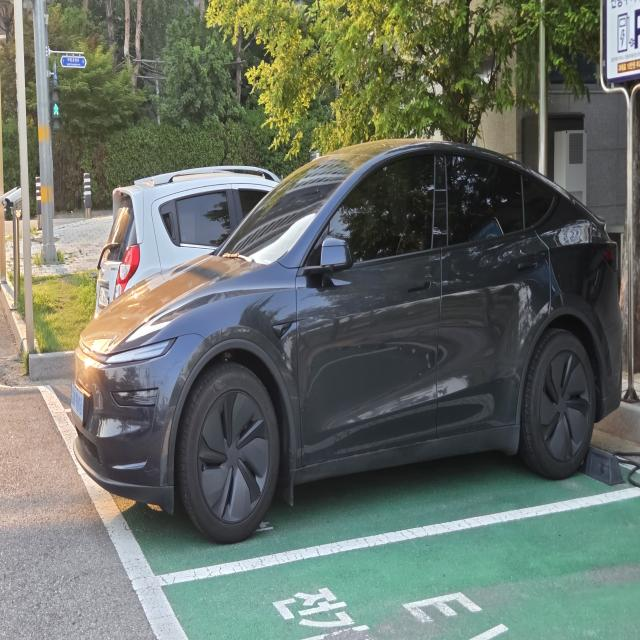car: (56, 103, 632, 571)
